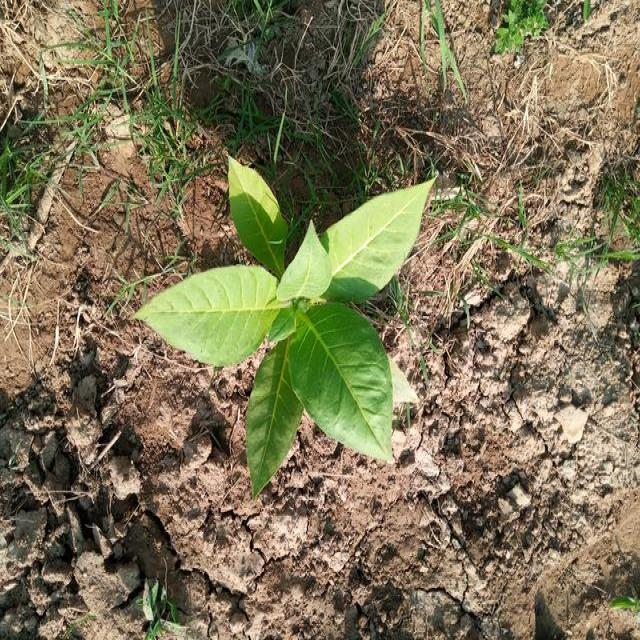crop: (138, 150, 438, 500)
